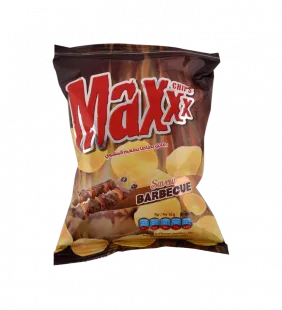MAXXX: (44, 36, 236, 275)
